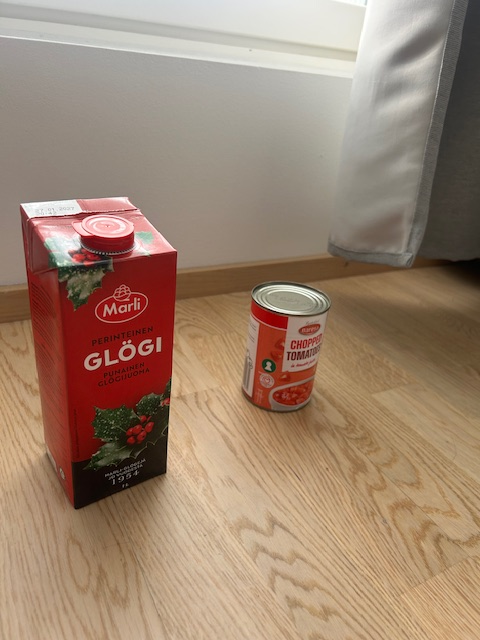Dryckeskartong: (19, 196, 178, 510)
Konservburk: (240, 280, 332, 413)
